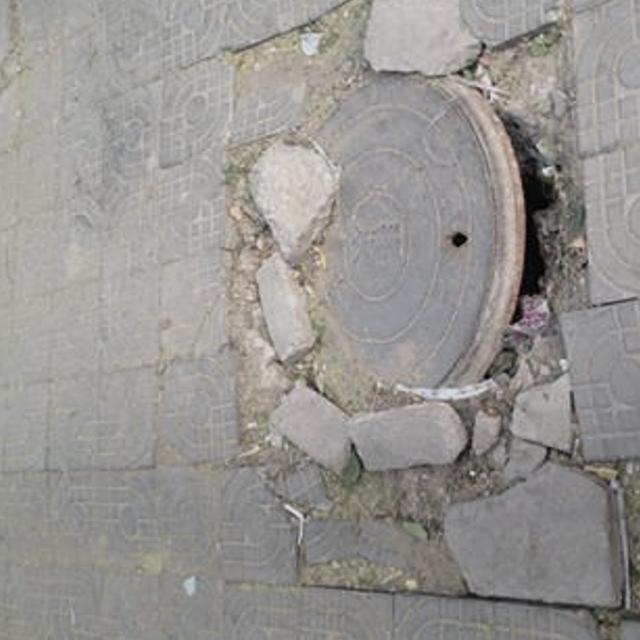circle: (219, 23, 628, 615)
